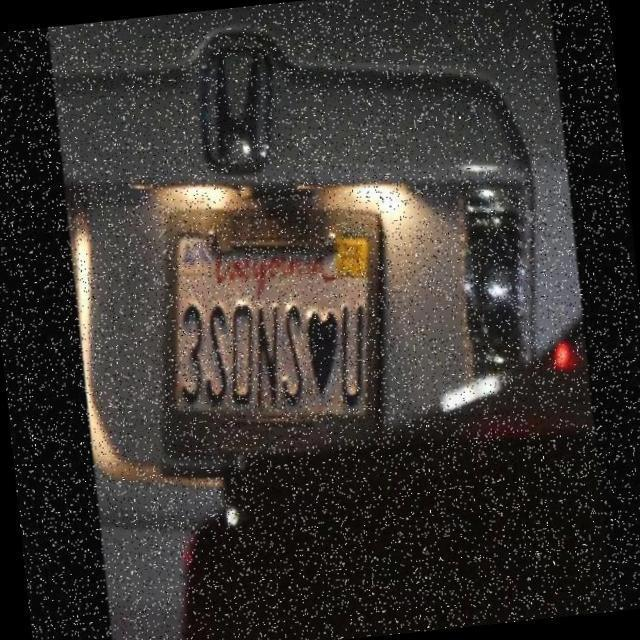License Plate: (157, 186, 383, 444)
